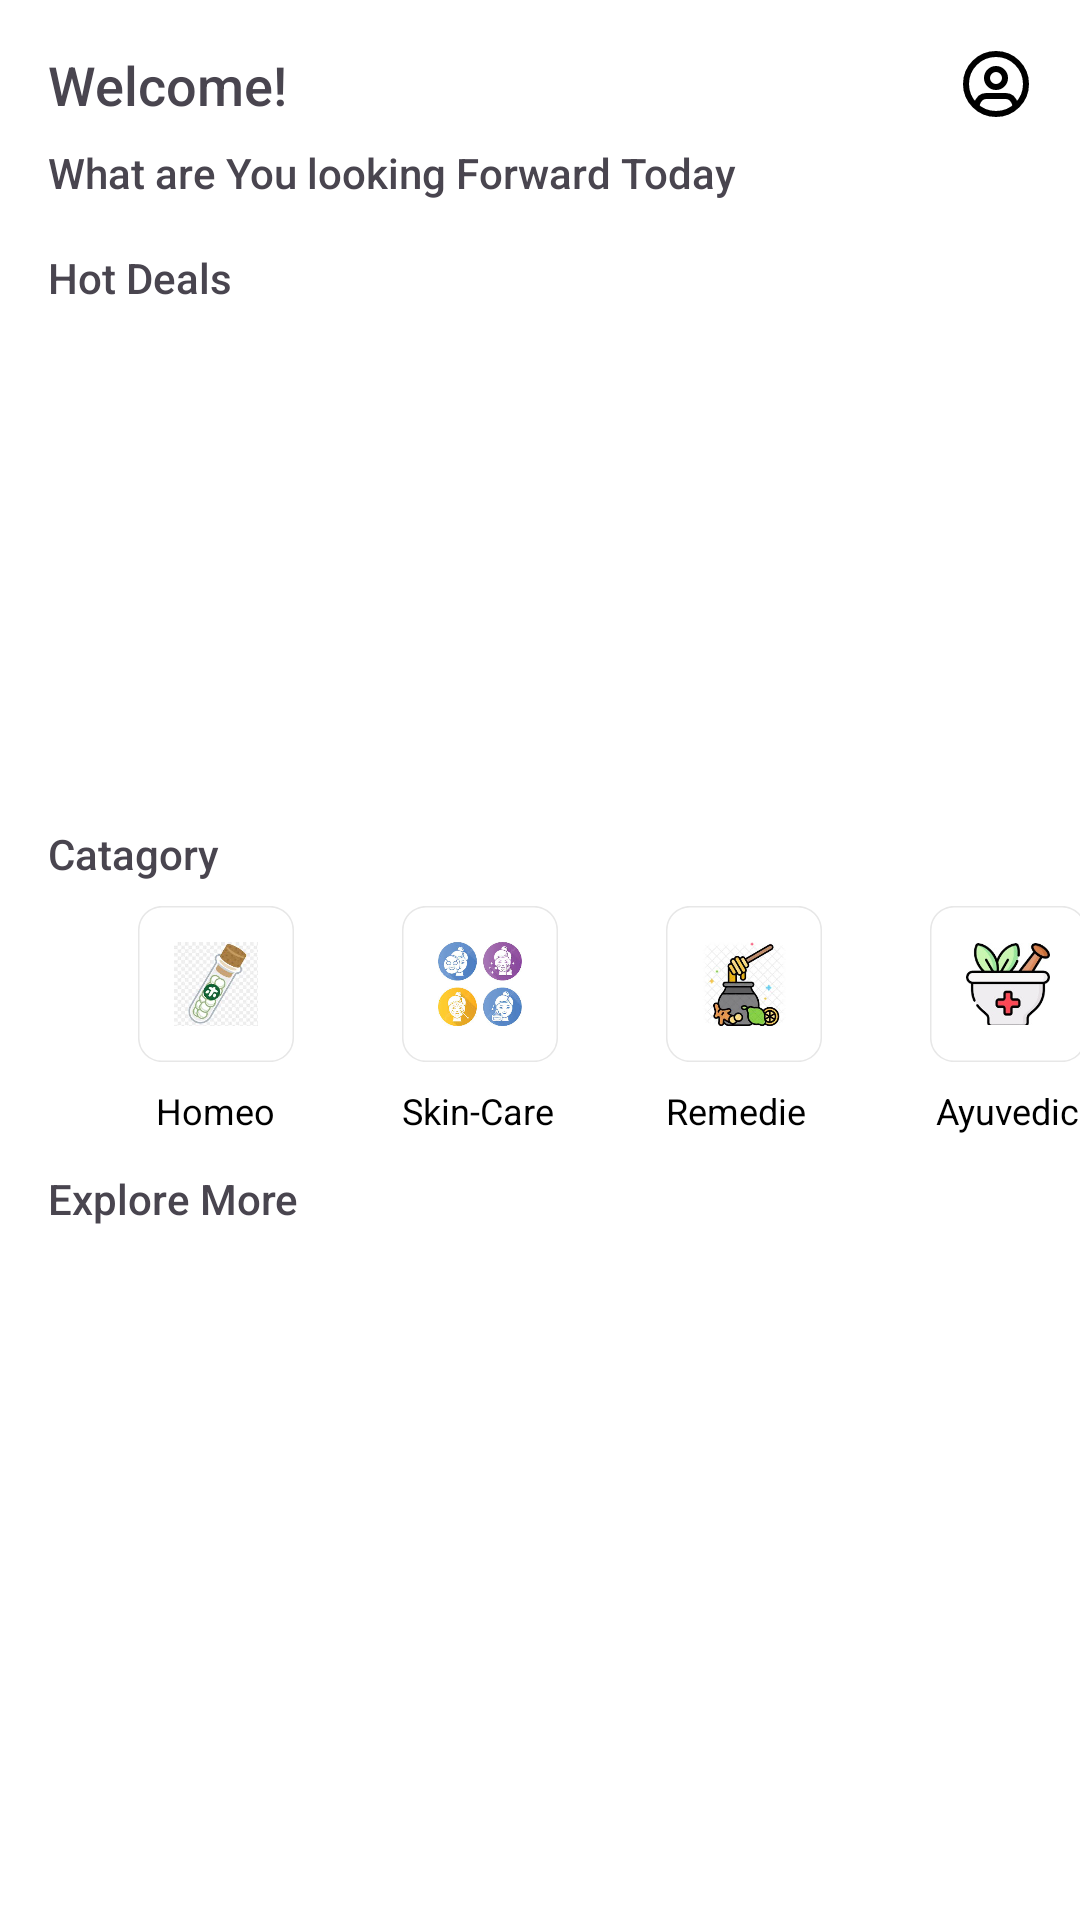

Icons on this 1080x1920 Android screen, each with the point to tap as (x,y):
user circle: (996,84)
